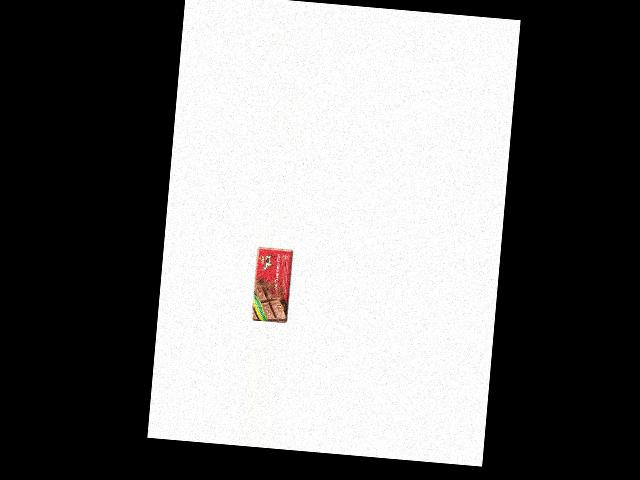chocolate: (250, 245, 295, 323)
